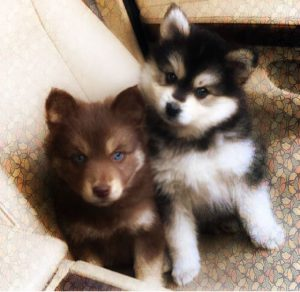husky: (37, 84, 162, 261), (145, 1, 262, 149)
